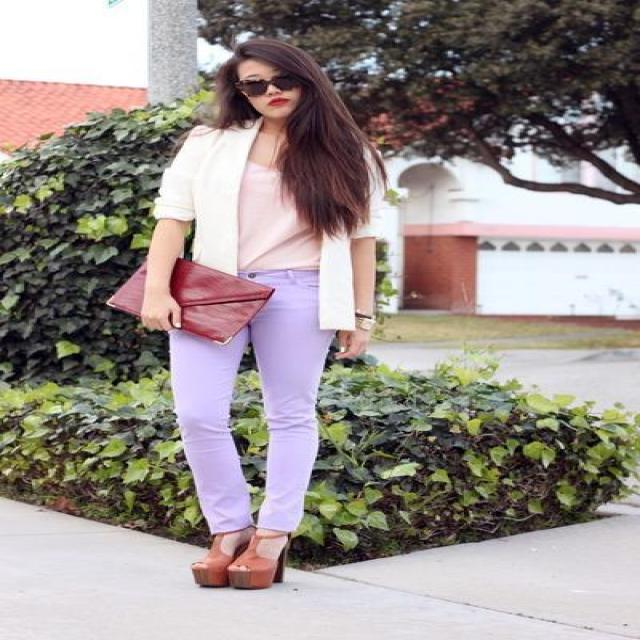bag: (105, 243, 274, 345)
jacket: (155, 126, 371, 329)
pants: (168, 260, 330, 534)
shirt: (232, 160, 325, 268)
shoe: (192, 522, 306, 588)
